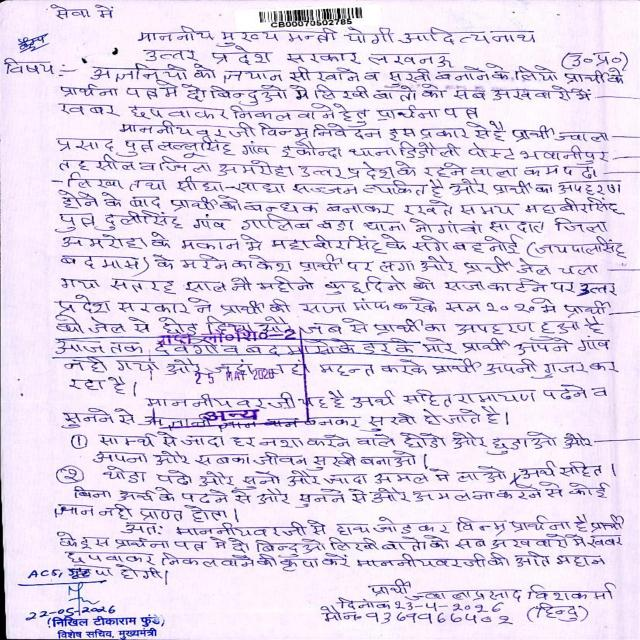antritgovtstamp: (150, 326, 312, 428)
barcode: (255, 4, 366, 28)
signnamestamp: (24, 583, 178, 640)
